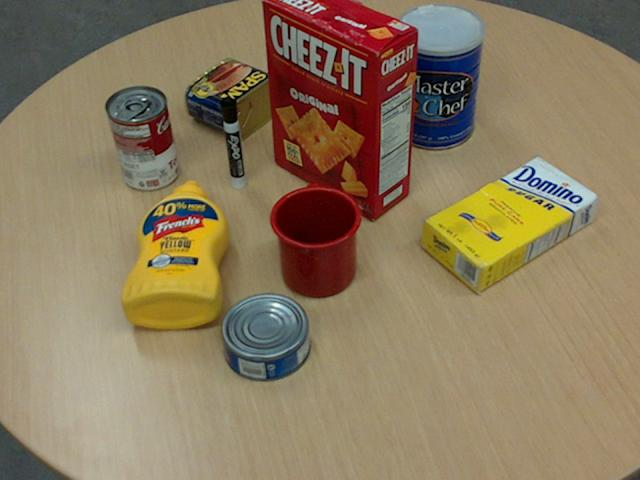cracker_box: (263, 0, 418, 216)
gelatin_box: (291, 44, 366, 107)
large_marker: (219, 96, 245, 189)
master_chef_can: (392, 4, 484, 150)
mug: (268, 185, 361, 296)
mustard_bottle: (120, 179, 228, 328)
potted_meat_can: (184, 57, 286, 139)
sugar_box: (420, 157, 598, 293)
tomato_soup_can: (105, 83, 177, 188)
tuna_fish_can: (220, 293, 310, 381)
